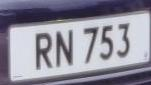3: (116, 19, 133, 65)
5: (99, 21, 116, 67)
7: (81, 22, 101, 70)
N: (55, 24, 77, 72)
R: (32, 27, 55, 75)
